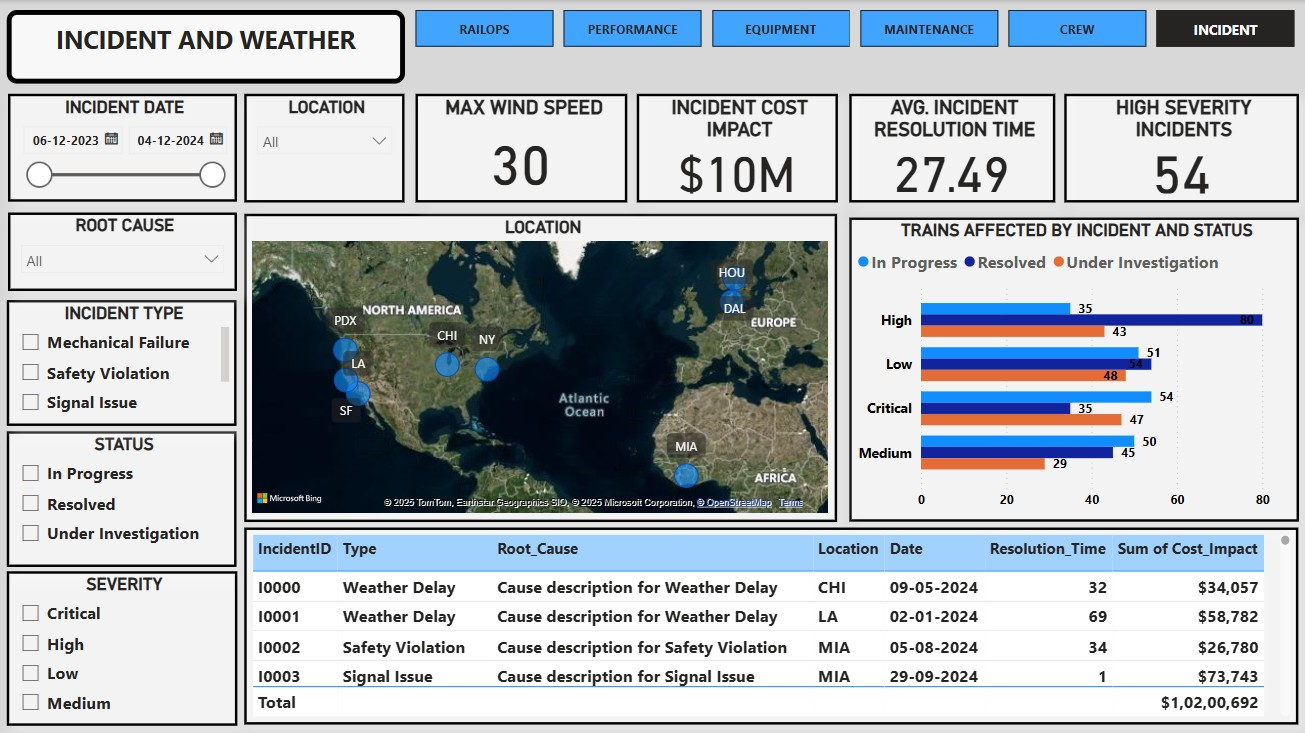

Layout of this report page (visuals, bound fields, positions):
{"tool":"powerbi","page":{"name":"INCIDENT","canvas":[1280,720],"ordinal":5},"visuals":[{"type":"textbox","box":[8.4,9.7,389.7,72.4],"z":0},{"type":"slicer","title":"STATUS","fields":{"Values":["Incident_Reports.Status"]},"box":[8.9,422.4,224.8,132.7],"z":1000},{"type":"slicer","title":"INCIDENT DATE","fields":{"Values":["Incident_Reports.Date"]},"box":[9.9,91.9,223.6,105.6],"z":2000},{"type":"slicer","title":"INCIDENT TYPE","fields":{"Values":["Incident_Reports.Type"]},"box":[8.9,293.9,224.8,123.4],"z":3000},{"type":"slicer","title":"SEVERITY","fields":{"Values":["Incident_Reports.Severity"]},"box":[8.4,558.4,225.2,150.9],"z":4000},{"type":"clusteredBarChart","title":"TRAINS AFFECTED BY INCIDENT AND STATUS","fields":{"Category":["Incident_Reports.Severity"],"Y":["Sum(Incident_Reports.Affected_Trains)"],"Series":["Incident_Reports.Status"]},"box":[832.4,212.3,440.4,298],"z":5000},{"type":"slicer","title":"LOCATION","fields":{"Values":["Incident_Reports.Location"]},"box":[241.3,91.7,156.8,106.2],"z":6000},{"type":"map","title":"LOCATION","fields":{"Category":["Weather_Data.Location"]},"box":[241.3,208.7,580.3,301.6],"z":7000},{"type":"slicer","title":"ROOT CAUSE","fields":{"Values":["Incident_Reports.Root_Cause"]},"box":[9.8,208.4,223.8,77.1],"z":8000},{"type":"tableEx","fields":{"Values":["Incident_Reports.IncidentID","Incident_Reports.Type","Incident_Reports.Root_Cause","Incident_Reports.Location","Incident_Reports.Date","Incident_Reports.Resolution_Time","Sum(Incident_Reports.Cost_Impact)"]},"box":[241.3,516.4,1031.5,193],"z":9000},{"type":"card","title":"MAX WIND SPEED","fields":{"Values":["Weather_Data.Max_Wind_Speed"]},"box":[409,91.7,207.5,106.2],"z":10000},{"type":"card","title":"INCIDENT COST IMPACT","fields":{"Values":["Incident_Reports.Total_Incident_Cost_Impact"]},"box":[624.9,91.7,196.6,106.2],"z":11000},{"type":"card","title":"AVG. INCIDENT RESOLUTION TIME","fields":{"Values":["Incident_Reports.Average_Incident_Resolution_Time"]},"box":[832.4,91.7,201.5,106.2],"z":12000},{"type":"card","title":"HIGH SEVERITY INCIDENTS","fields":{"Values":["Incident_Reports.Incidents_By_Severity"]},"box":[1043.6,91.7,229.2,106.2],"z":13000},{"type":"pageNavigator","box":[408.7,10.2,864,36.4],"z":14000}]}

Visuals, with their boxes in screenshot pixels (x1, y1, x2, y2), scaled from the page's 1280x720 canvas onto the 1305x733 screenshot:
textbox: {"x1": 9, "y1": 10, "x2": 406, "y2": 84}
"STATUS" slicer: {"x1": 9, "y1": 430, "x2": 238, "y2": 565}
"INCIDENT DATE" slicer: {"x1": 10, "y1": 94, "x2": 238, "y2": 201}
"INCIDENT TYPE" slicer: {"x1": 9, "y1": 299, "x2": 238, "y2": 425}
"SEVERITY" slicer: {"x1": 9, "y1": 568, "x2": 238, "y2": 722}
"TRAINS AFFECTED BY INCIDENT AND STATUS" clusteredBarChart: {"x1": 849, "y1": 216, "x2": 1298, "y2": 520}
"LOCATION" slicer: {"x1": 246, "y1": 93, "x2": 406, "y2": 201}
"LOCATION" map: {"x1": 246, "y1": 212, "x2": 838, "y2": 520}
"ROOT CAUSE" slicer: {"x1": 10, "y1": 212, "x2": 238, "y2": 291}
tableEx - Incident_Reports.IncidentID x Incident_Reports.Type: {"x1": 246, "y1": 526, "x2": 1298, "y2": 722}
"MAX WIND SPEED" card: {"x1": 417, "y1": 93, "x2": 629, "y2": 201}
"INCIDENT COST IMPACT" card: {"x1": 637, "y1": 93, "x2": 838, "y2": 201}
"AVG. INCIDENT RESOLUTION TIME" card: {"x1": 849, "y1": 93, "x2": 1054, "y2": 201}
"HIGH SEVERITY INCIDENTS" card: {"x1": 1064, "y1": 93, "x2": 1298, "y2": 201}
pageNavigator: {"x1": 417, "y1": 10, "x2": 1298, "y2": 47}
